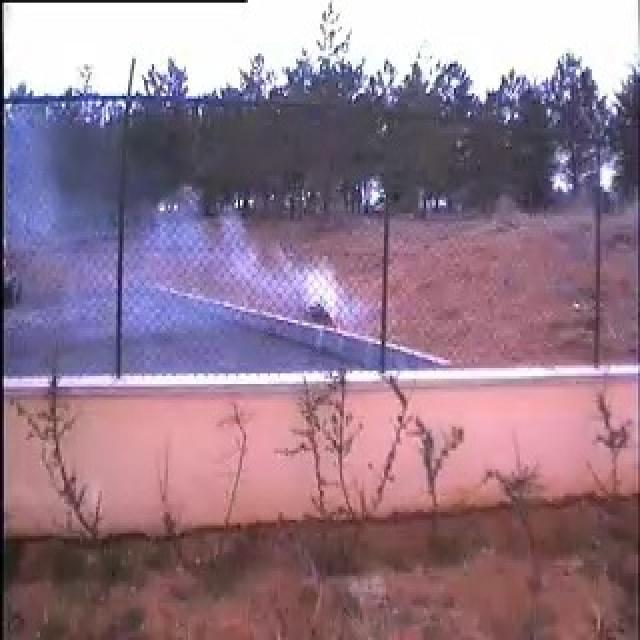smoke: (48, 134, 338, 318)
